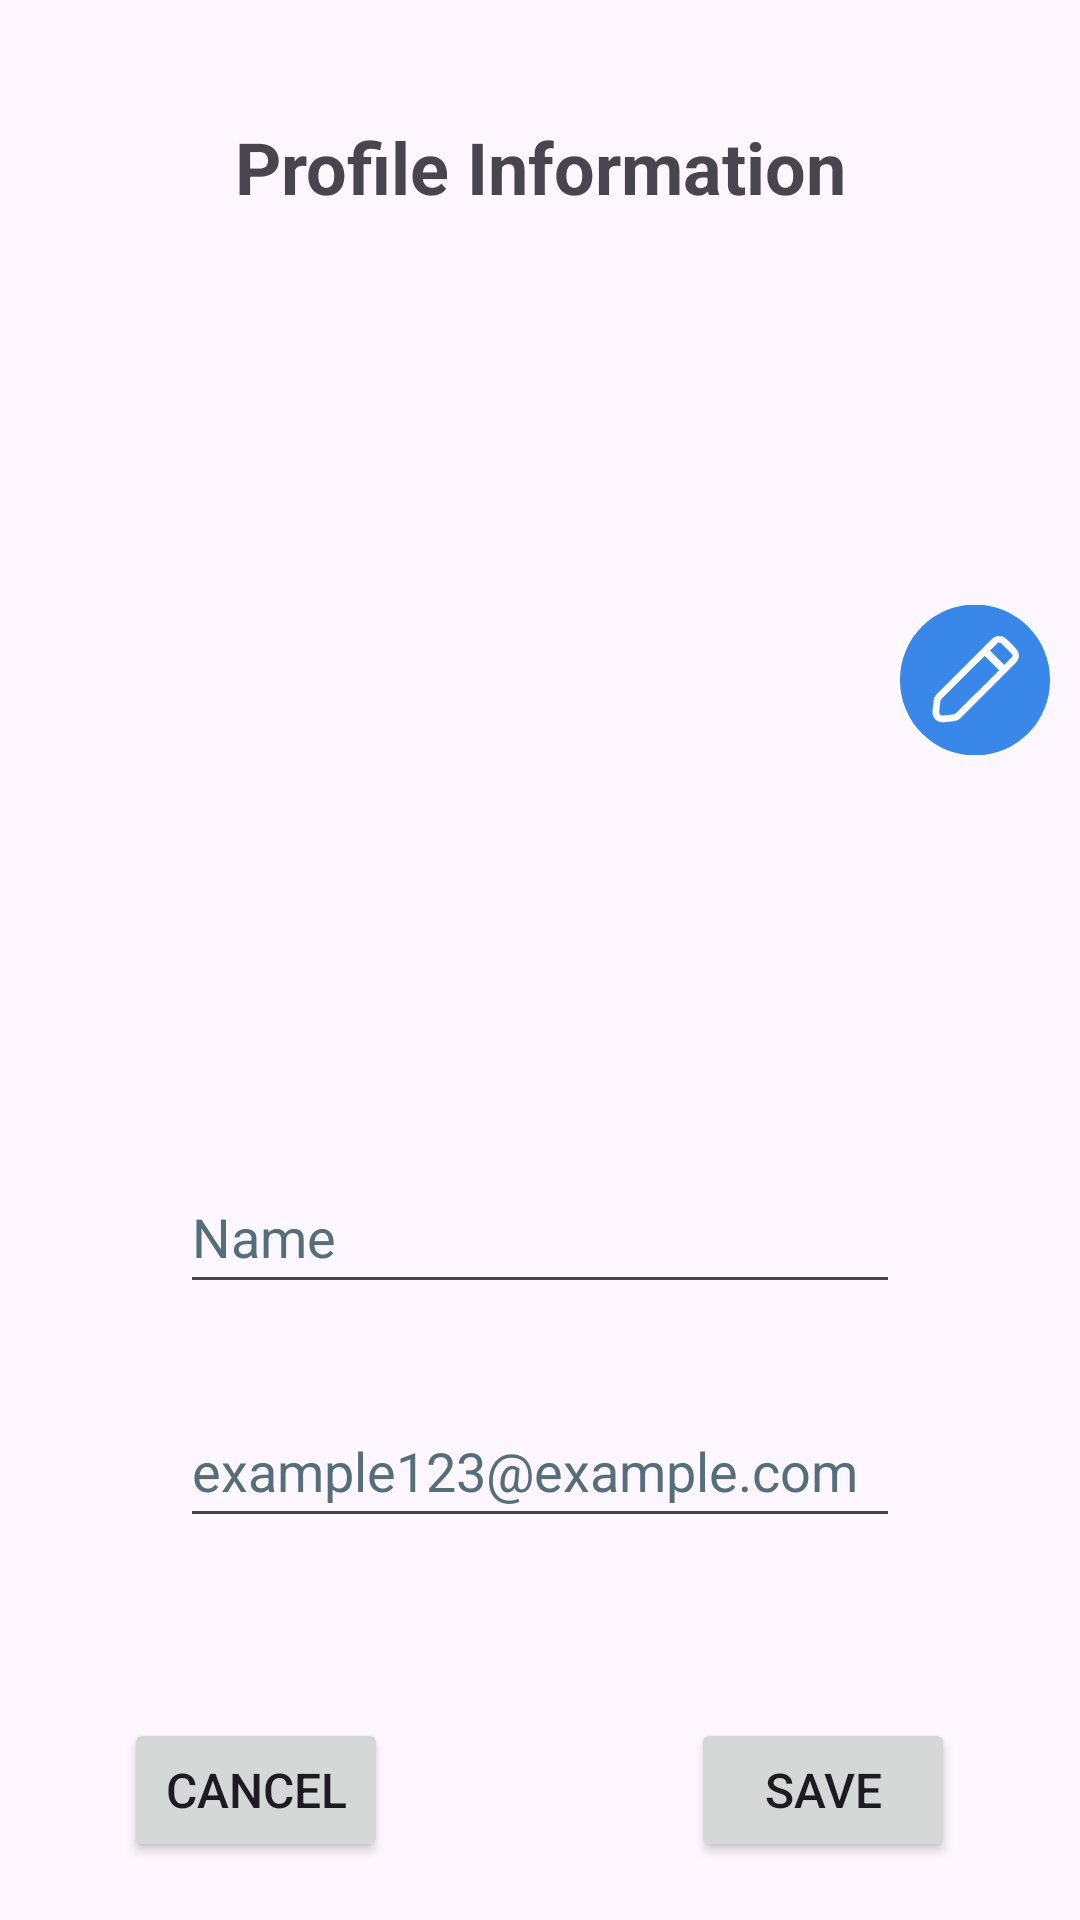

Where icons sit on this 1080 x 1920 app screen, as (x1=x1, y1=y1, x2=x2, y2=y2):
ui edit: (x1=900, y1=605, x2=1050, y2=755)
